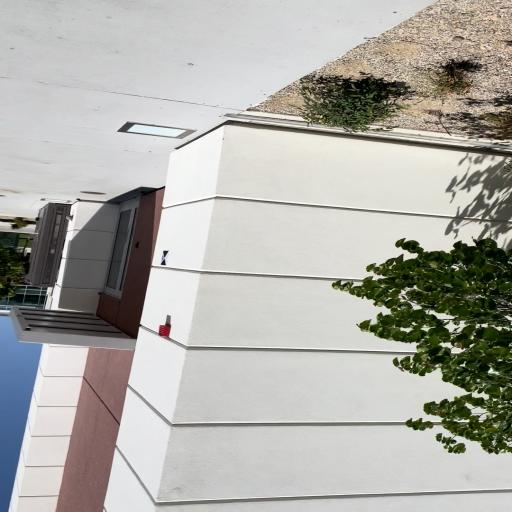target6: (157, 250, 173, 266)
